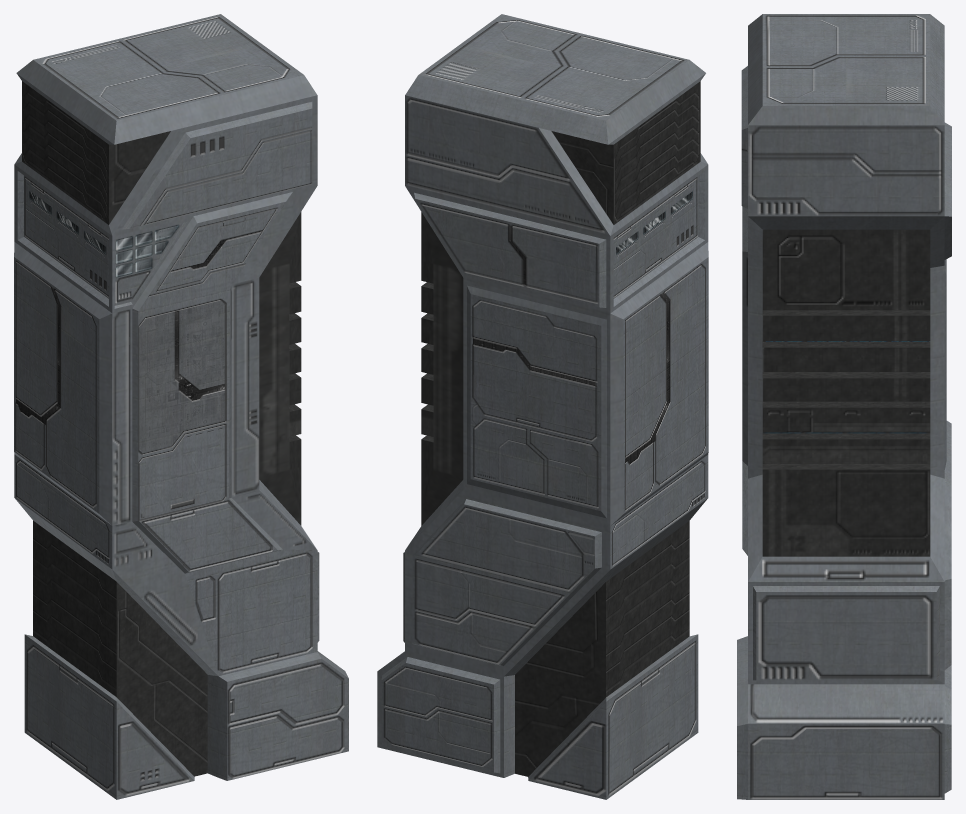
Rendered from tower-02.fbx.
The picture shows the model from 3 angles, left to right: view 1: azimuth 30°, elevation 25°; view 2: azimuth 150°, elevation 25°; view 3: azimuth 270°, elevation 25°; orthographic projection.
Visible parts, largest first — view 1: tower-02; view 2: tower-02; view 3: tower-02.
Part boxes in pixels (x1=…): tower-02: x1=14, y1=14, x2=348, y2=799; tower-02: x1=377, y1=14, x2=708, y2=799; tower-02: x1=737, y1=14, x2=951, y2=799.
Bounding box in the file's own units: 55.19 × 149 × 42.66.
